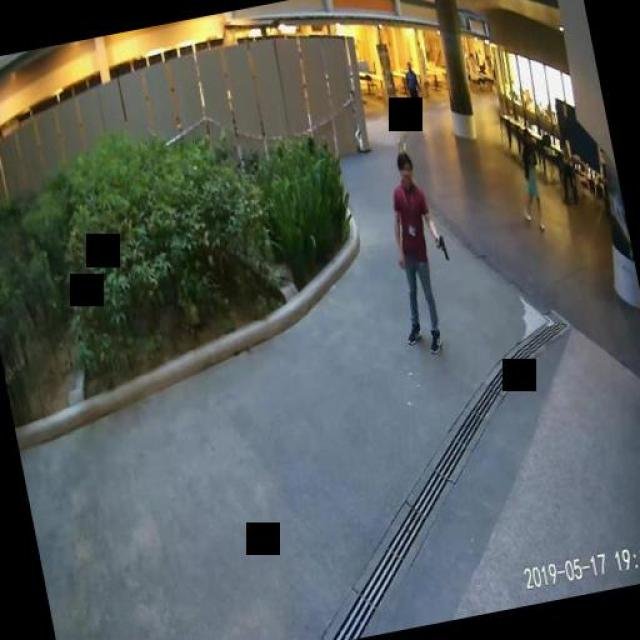gun: (433, 234, 448, 260)
